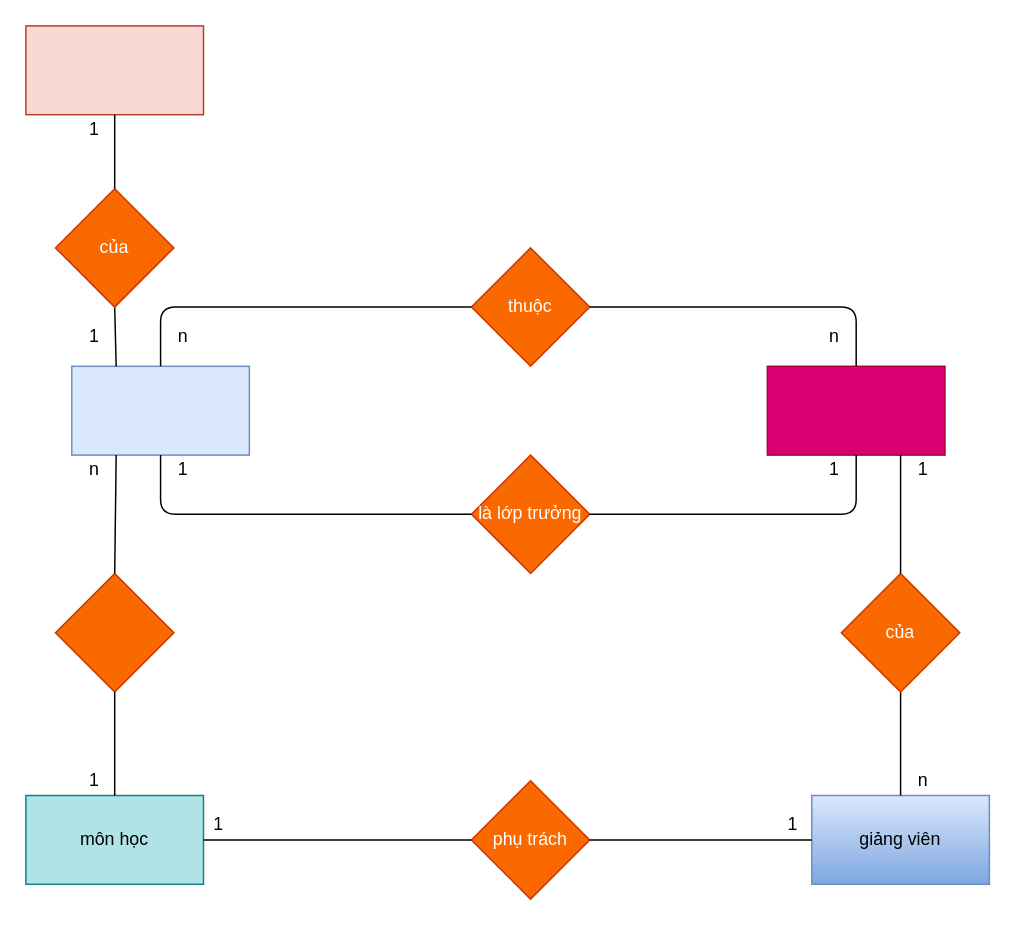
This 1015x925 diagram has some shape labels left out. The centre of each missing label's shape, as x and y in pixels:
"học" belongs at pixel 114 632.
"lớp c.ngành" belongs at pixel 855 410.
"sinh viên" belongs at pixel 159 410.
"thẻ sv" belongs at pixel 114 69.
